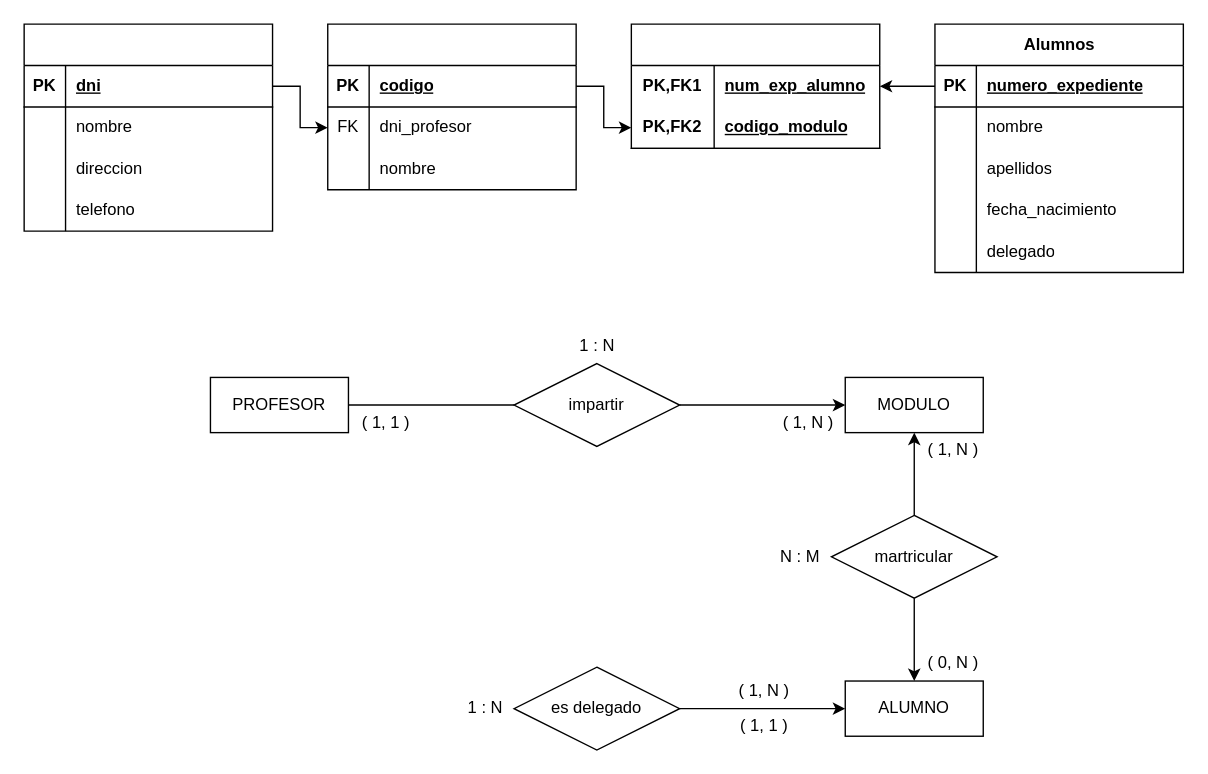
The diagram is 1208 pixels wide and 774 high, and some of its shapes have lost their labels. Here are the shapes that lost their labels. From the top down, the box of each, then its label:
(630, 23, 880, 148): Alumnos_Modulos
(326, 23, 576, 190): Modulos
(23, 23, 273, 231): Profesores
